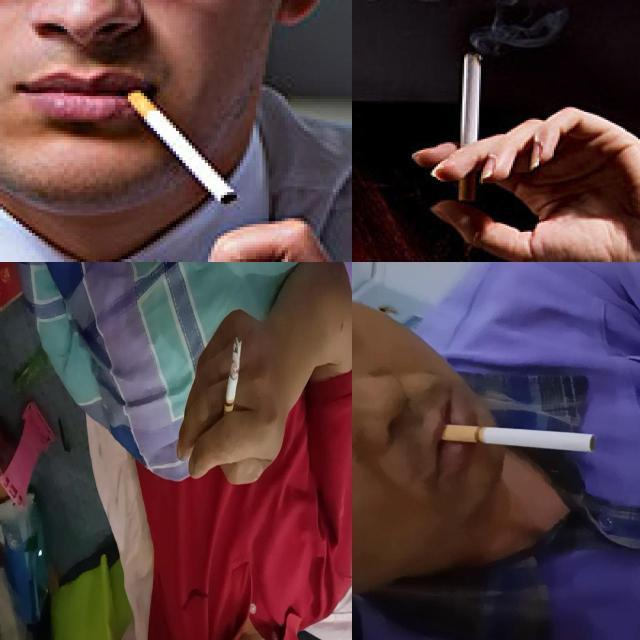smoking: (118, 81, 237, 206), (440, 424, 596, 454), (453, 48, 483, 200), (220, 338, 242, 437)
